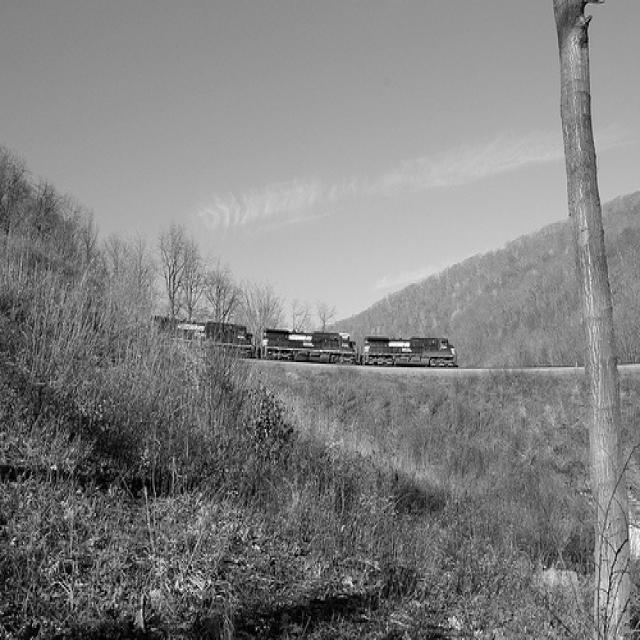train: (150, 316, 460, 370)
